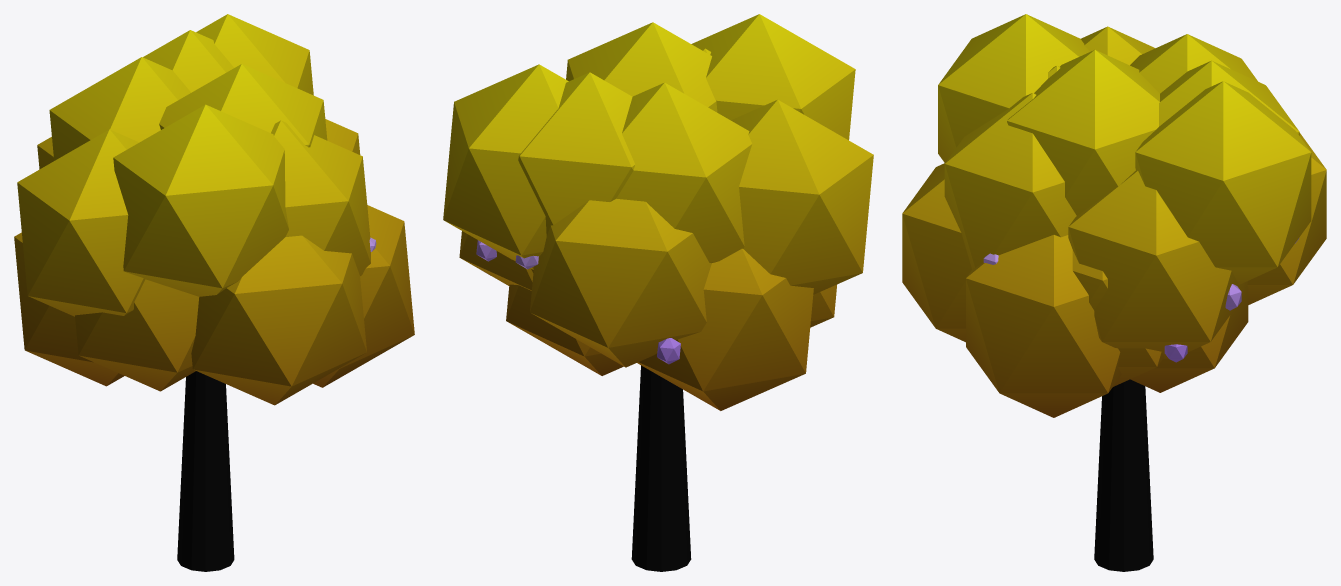
The model's file is tree_fruit_lod1.glb.
3 renders of one model, left to right at view 1: azimuth 30°, elevation 25°; view 2: azimuth 150°, elevation 25°; view 3: azimuth 270°, elevation 25°, orthographic. The views are drawn at different scales.
Visible parts, largest first — view 1: leaves_crown.012, leaves_crown.017, leaves_crown.015, tree_trunk, leaves_crown.009, leaves_crown.007, leaves_crown.005, leaves_crown.014, leaves_crown.001, leaves_crown.016, leaves_crown.010, leaves_crown.008 (+1 smaller); view 2: leaves_crown.013, leaves_crown.015, leaves_crown.005, leaves_crown.010, leaves_crown.016, leaves_crown.012, leaves_crown.008, tree_trunk, leaves_crown.001, leaves_crown.003, leaves_crown.011, leaves_crown.007; view 3: leaves_crown.016, leaves_crown.014, leaves_crown.011, leaves_crown.001, leaves_crown.009, leaves_crown.012, tree_trunk, leaves_crown.017, leaves_crown.013, leaves_crown.005, leaves_crown.003, leaves_crown.008 (+2 smaller).
Part boxes in pixels (<box>): leaves_crown.012: <box>113,104,288,296</box>; leaves_crown.017: <box>191,235,366,405</box>; leaves_crown.015: <box>17,129,145,316</box>; tree_trunk: <box>177,371,234,571</box>; leaves_crown.009: <box>271,120,370,275</box>; leaves_crown.007: <box>75,279,199,391</box>; leaves_crown.005: <box>49,57,190,160</box>; leaves_crown.014: <box>313,205,414,387</box>; leaves_crown.001: <box>159,64,327,147</box>; leaves_crown.016: <box>196,14,313,95</box>; leaves_crown.010: <box>14,232,124,386</box>; leaves_crown.008: <box>143,30,233,92</box>; leaves_crown.013: <box>530,198,711,367</box>; leaves_crown.015: <box>731,99,873,294</box>; leaves_crown.005: <box>616,82,751,263</box>; leaves_crown.010: <box>637,248,813,410</box>; leaves_crown.016: <box>443,64,568,269</box>; leaves_crown.012: <box>691,14,855,140</box>; leaves_crown.008: <box>518,72,635,235</box>; tree_trunk: <box>631,365,691,571</box>; leaves_crown.001: <box>566,22,717,112</box>; leaves_crown.003: <box>506,269,623,375</box>; leaves_crown.011: <box>459,231,533,290</box>; leaves_crown.007: <box>810,284,837,327</box>; leaves_crown.016: <box>1135,81,1311,284</box>; leaves_crown.014: <box>966,235,1121,417</box>; leaves_crown.011: <box>1068,170,1244,358</box>; leaves_crown.001: <box>1007,50,1159,215</box>; leaves_crown.009: <box>944,93,1076,269</box>; leaves_crown.012: <box>938,14,1089,162</box>; tree_trunk: <box>1094,379,1153,571</box>; leaves_crown.017: <box>902,163,971,342</box>; leaves_crown.013: <box>1247,133,1326,304</box>; leaves_crown.005: <box>1130,34,1257,93</box>; leaves_crown.003: <box>1130,281,1248,392</box>; leaves_crown.008: <box>1159,60,1299,135</box>.
Bounding box in the file's own units: 3.29 × 4.45 × 3.28.
